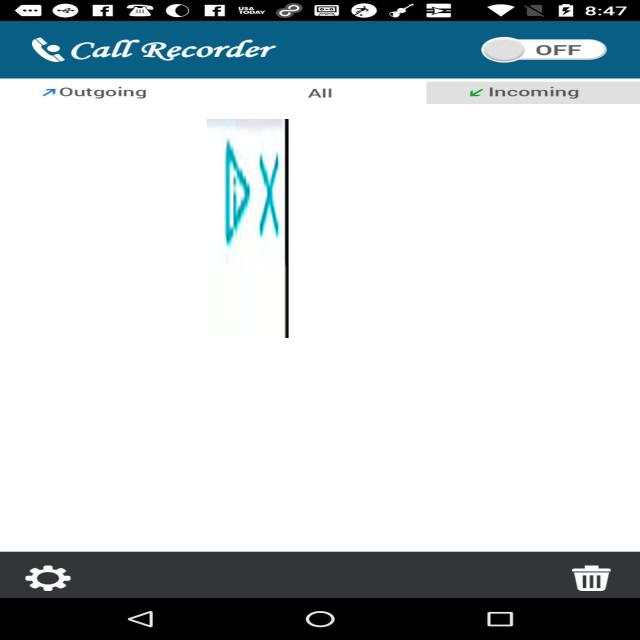sneaking: (206, 119, 288, 338)
